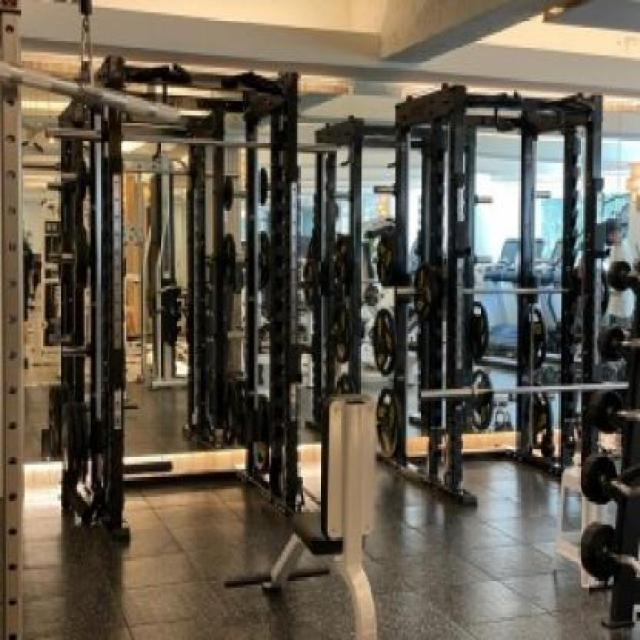smith machine: (60, 58, 303, 551), (380, 83, 605, 517)
